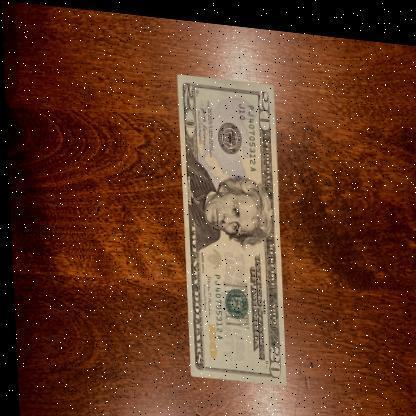twenty-front: (174, 69, 284, 382)
